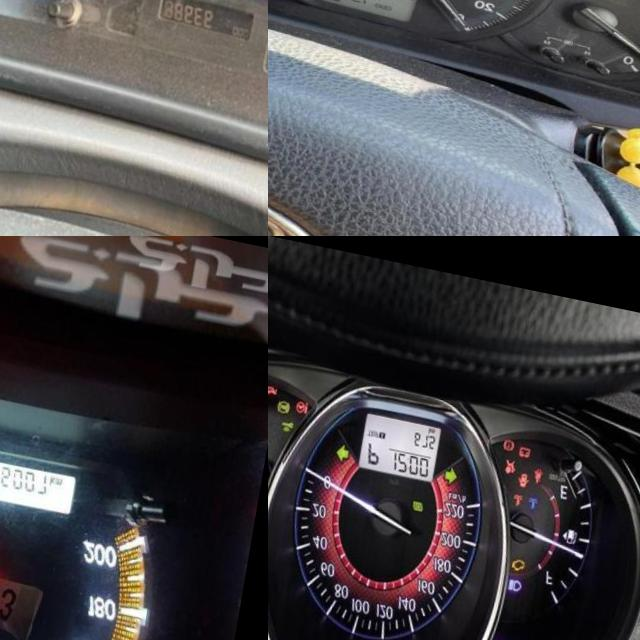Electronic Power Steering: (301, 390, 316, 406)
High Engine Coolant Temperature: (520, 474, 531, 488)
Seat Belt: (539, 448, 551, 465)
